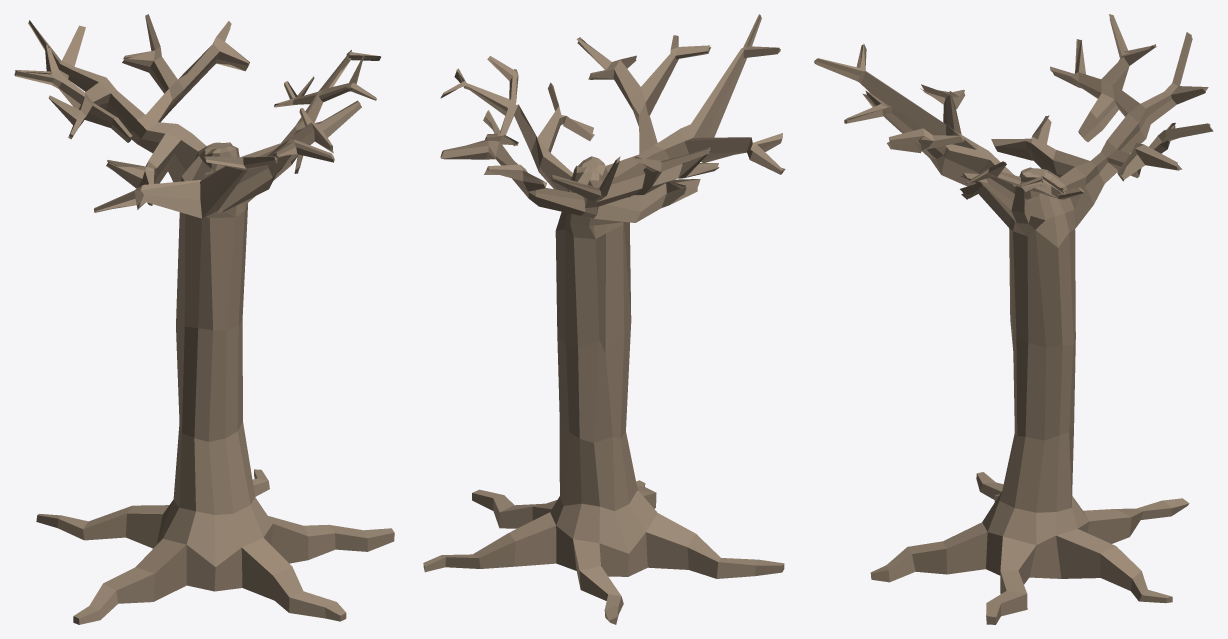
The model's file is desert_tree.fbx.
3 views of the same model, side by side, from view 1: azimuth 30°, elevation 25°; view 2: azimuth 150°, elevation 25°; view 3: azimuth 270°, elevation 25° (orthographic). The views are drawn at different scales.
Parts seen in each view (by area): view 1: desert_tree; view 2: desert_tree; view 3: desert_tree.
Part boxes in pixels (x1,y1,x2,y2): desert_tree: [14, 14, 394, 624]; desert_tree: [423, 14, 785, 624]; desert_tree: [814, 14, 1213, 624].
Size of the model in its own units: 902 by 1353 by 1015.
